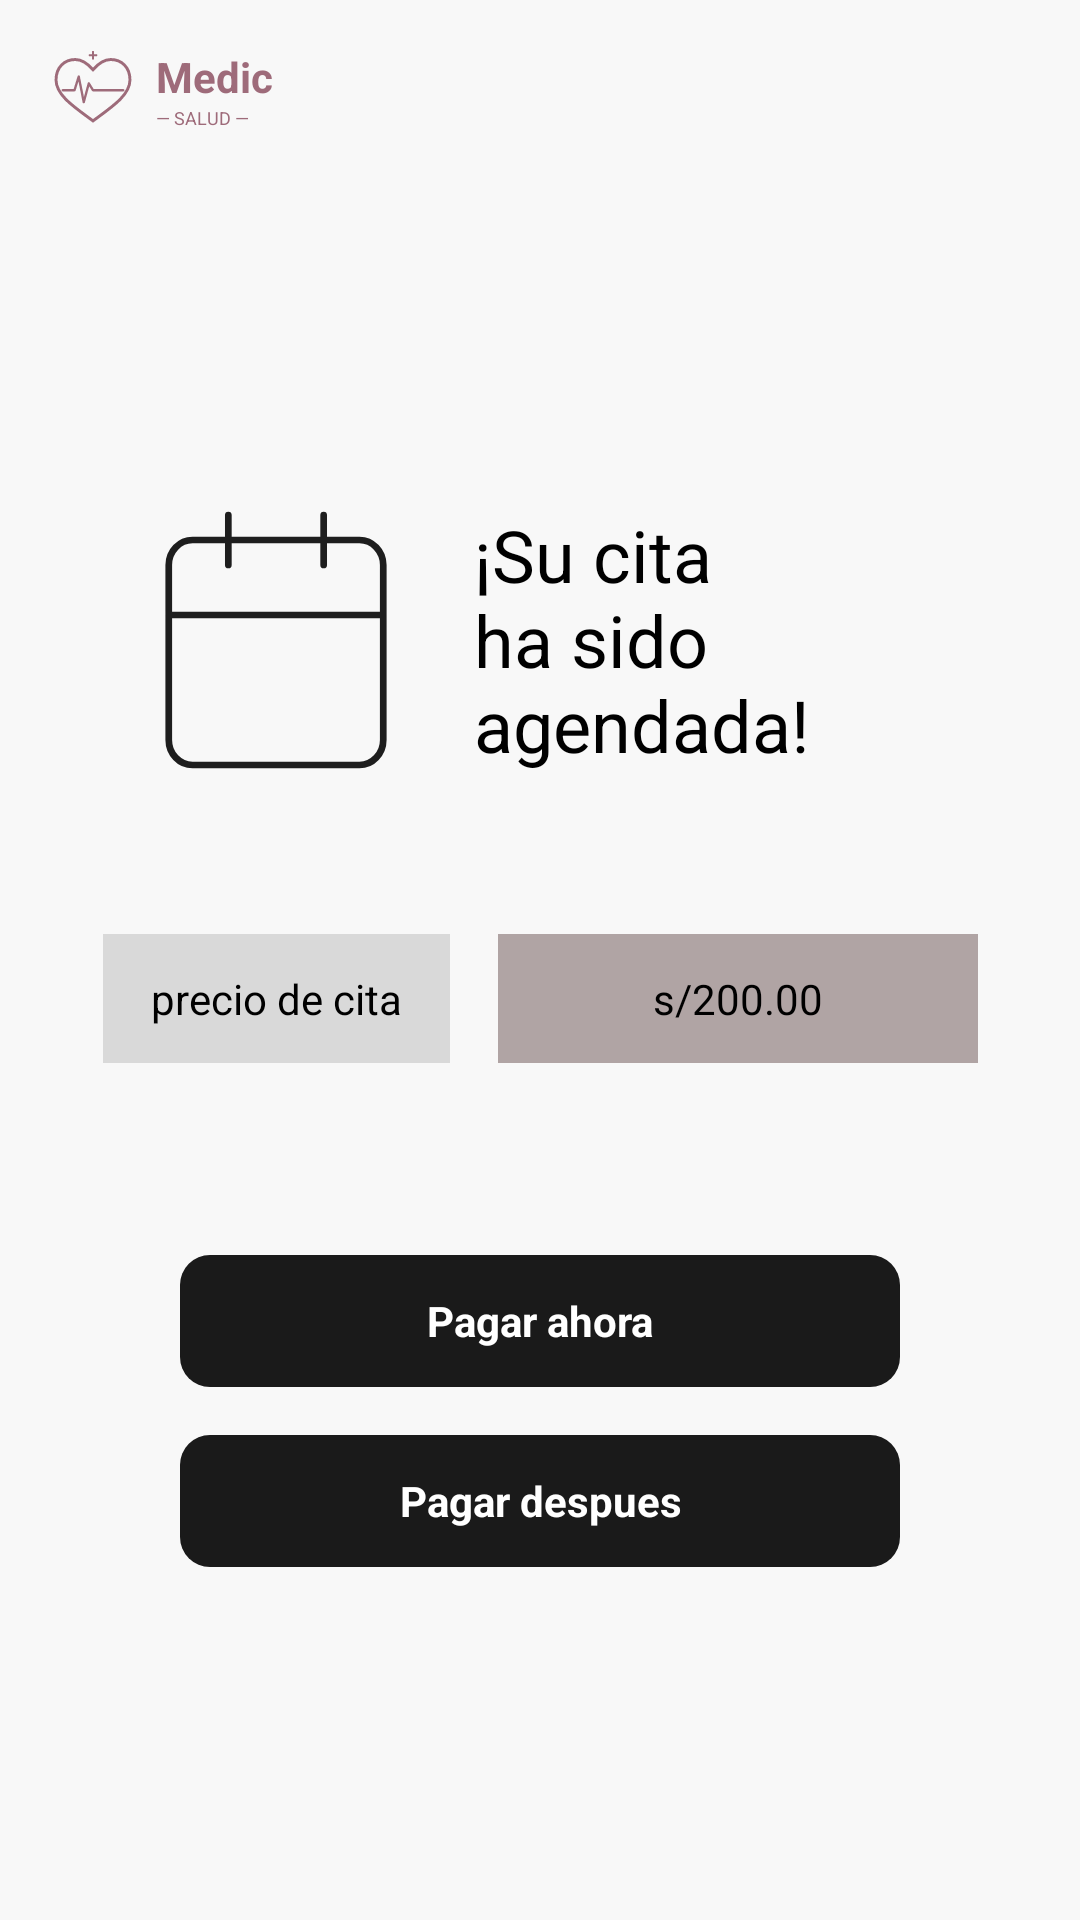

Locate icon controls on the screen. Image size 1080x1920, boxes as (x1, y1, x2, y2).
calendario: (165, 511, 387, 769)
